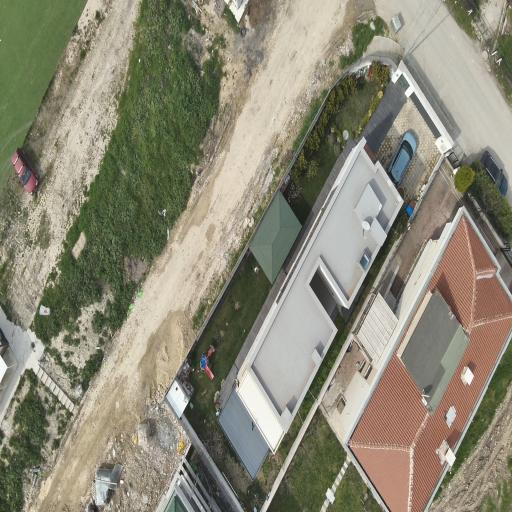car: (388, 132, 417, 184), (479, 151, 507, 195), (12, 148, 38, 195)
